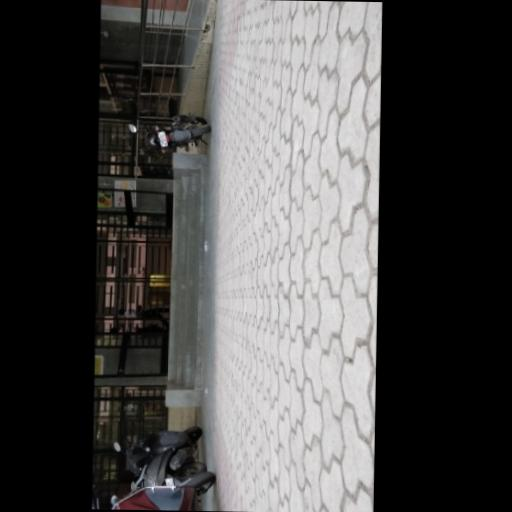stairs: (169, 167, 208, 389)
